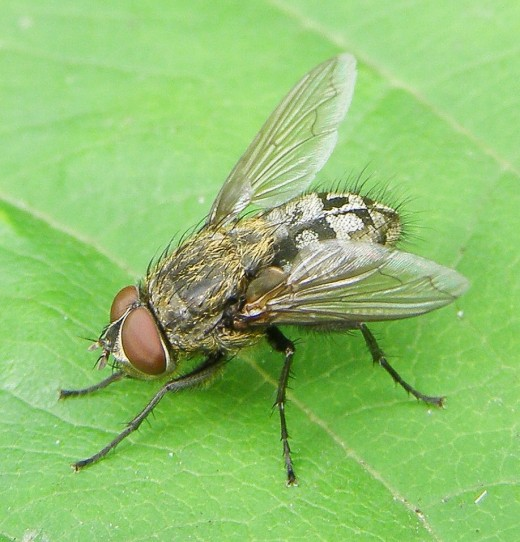green bottles flies: (48, 34, 460, 507)
